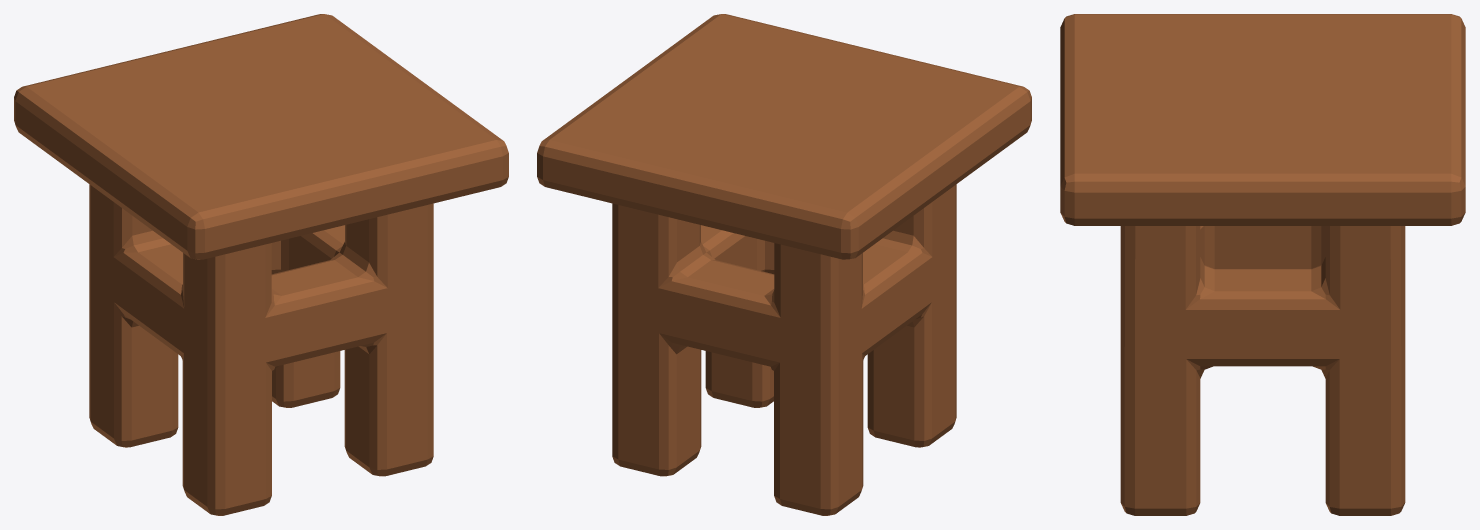
File: StoolStatic.fbx
3 views of the same model, side by side, from view 1: azimuth 30°, elevation 25°; view 2: azimuth 150°, elevation 25°; view 3: azimuth 270°, elevation 25° (orthographic). The views are drawn at different scales.
Visible parts, largest first — view 1: StoolStatic; view 2: StoolStatic; view 3: StoolStatic.
Boxes of the visible parts, x1,y1,x2,y2 form: StoolStatic: (14,14,508,515); StoolStatic: (537,14,1031,515); StoolStatic: (1060,14,1465,515).
Size of the model in its own units: 100 by 100 by 100.
